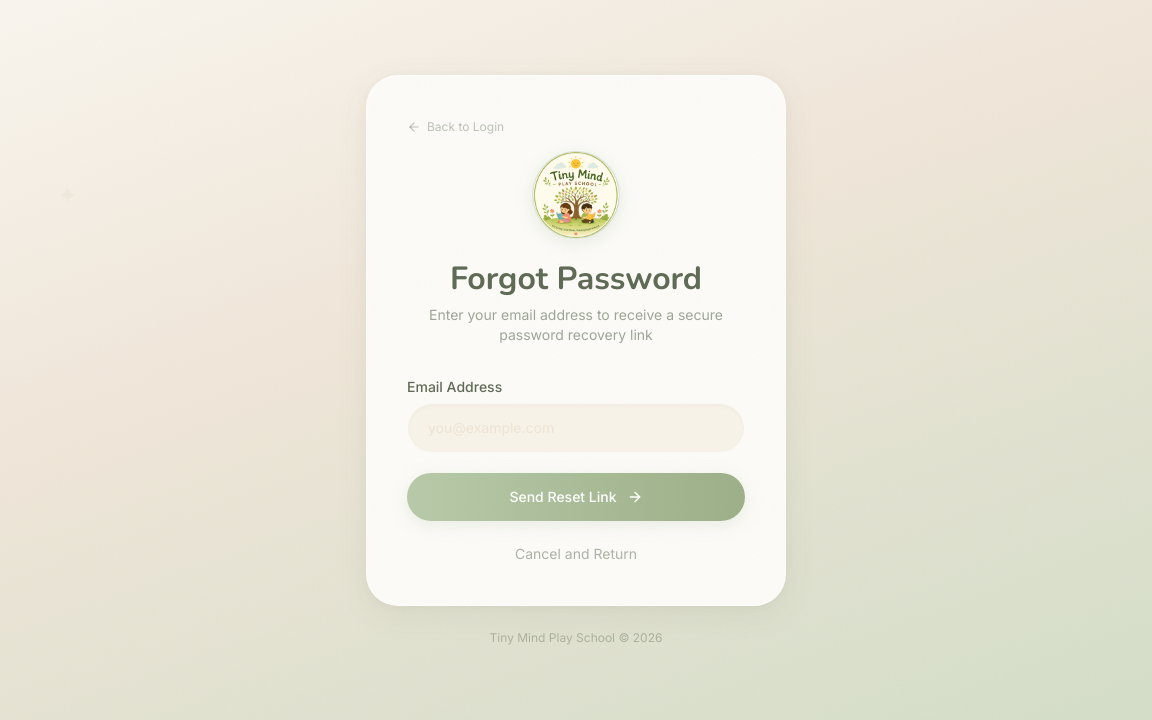
Test: ForgotPasswordPage › displays error message when request fails
This screenshot has width=1152, height=720.
Type "user@school.com" into the field labelled "Email Address". click: (576, 428)
box: x1=407 y1=402 x2=745 y2=452
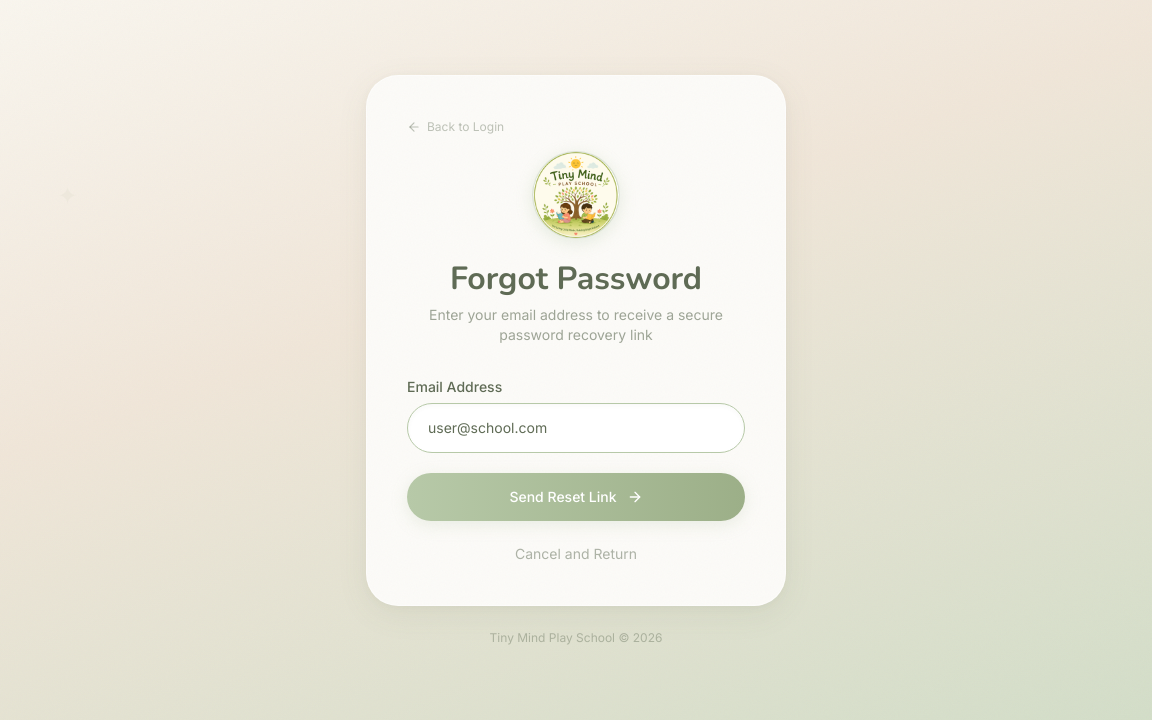
Click the button "Send Reset Link". click: (576, 496)
box: x1=407 y1=472 x2=745 y2=520
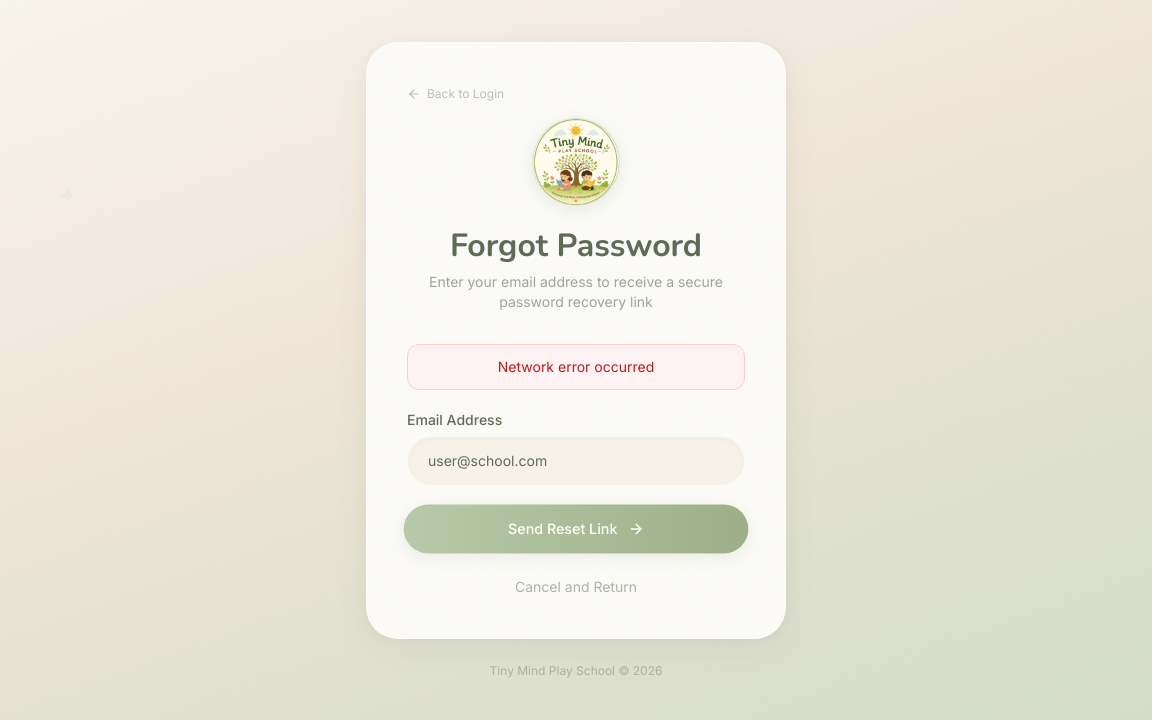
Expected: the text "Network error occurred" is shown, x1=407 y1=344 x2=745 y2=390
